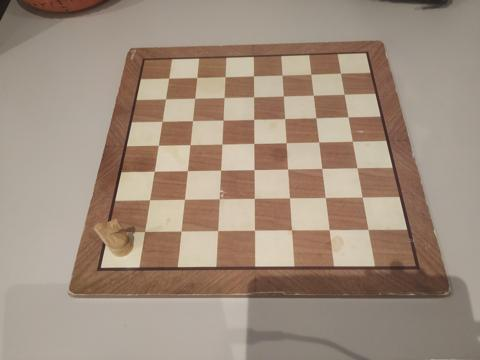xcorner: (139, 226, 149, 236), (176, 226, 186, 236), (213, 226, 223, 236), (250, 225, 260, 235), (288, 225, 298, 235), (326, 225, 336, 235), (364, 224, 374, 234), (144, 194, 154, 204), (179, 194, 189, 204), (215, 194, 225, 204), (250, 193, 260, 203), (286, 193, 296, 203), (358, 192, 368, 202), (149, 165, 159, 175), (182, 165, 192, 175), (250, 164, 260, 174), (284, 164, 294, 174), (319, 163, 329, 173), (353, 163, 363, 173), (153, 139, 163, 149), (185, 139, 195, 149), (250, 138, 260, 148), (283, 137, 293, 147), (349, 136, 359, 146), (157, 115, 167, 125), (188, 114, 198, 124), (219, 114, 229, 124), (250, 113, 260, 123), (281, 113, 291, 123), (313, 112, 323, 122), (344, 112, 354, 122), (161, 93, 171, 103), (190, 92, 200, 102), (220, 92, 230, 102), (250, 91, 260, 101), (280, 90, 290, 100), (310, 90, 320, 100), (340, 89, 350, 99), (164, 72, 174, 82), (193, 72, 203, 82), (221, 71, 231, 81), (250, 70, 260, 80), (279, 70, 289, 80), (308, 69, 318, 79), (337, 69, 347, 79), (322, 193, 332, 202), (216, 165, 226, 174), (218, 138, 227, 148), (316, 137, 325, 147)
